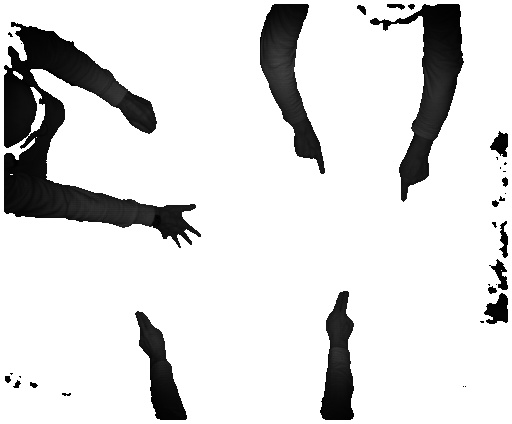fist: (122, 95, 159, 135)
hand: (392, 151, 431, 207), (320, 288, 359, 343), (128, 304, 167, 357), (158, 205, 207, 247), (295, 126, 327, 175)
